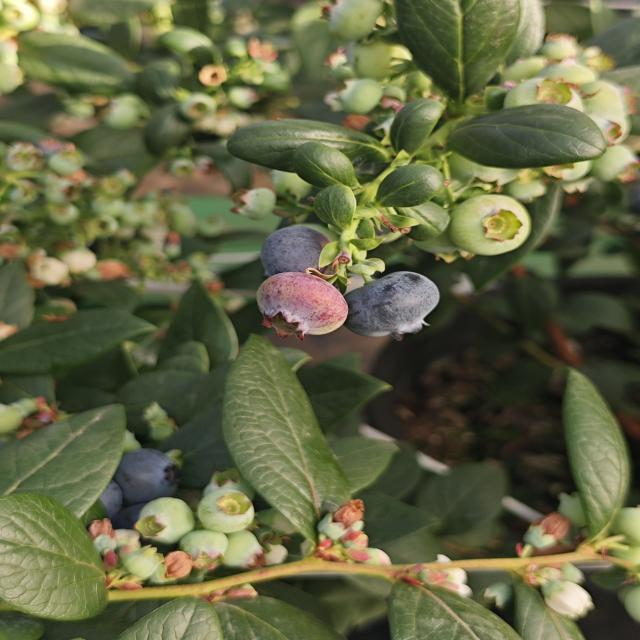ripe: (341, 268, 444, 338), (258, 217, 350, 284), (93, 477, 165, 531), (109, 444, 185, 491)
